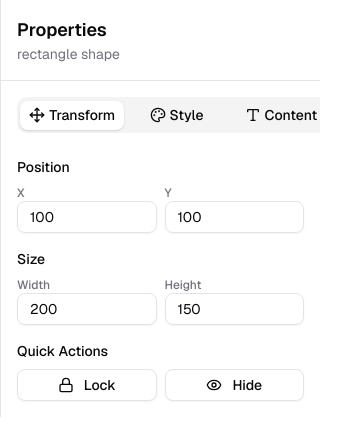
Test: PropertyPanel › Style Tab › displays style properties
Click the tab "Style": [176, 115] box [124, 100, 229, 130]
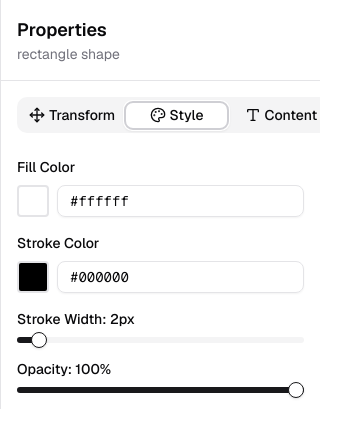
Expected: the text "Fill Color" is shown, [17, 158, 75, 176]
Expected: the text "Stroke Color" is shown, [17, 234, 99, 252]
Expected: the text "Stroke Width: 2px" is shown, [17, 310, 135, 328]
